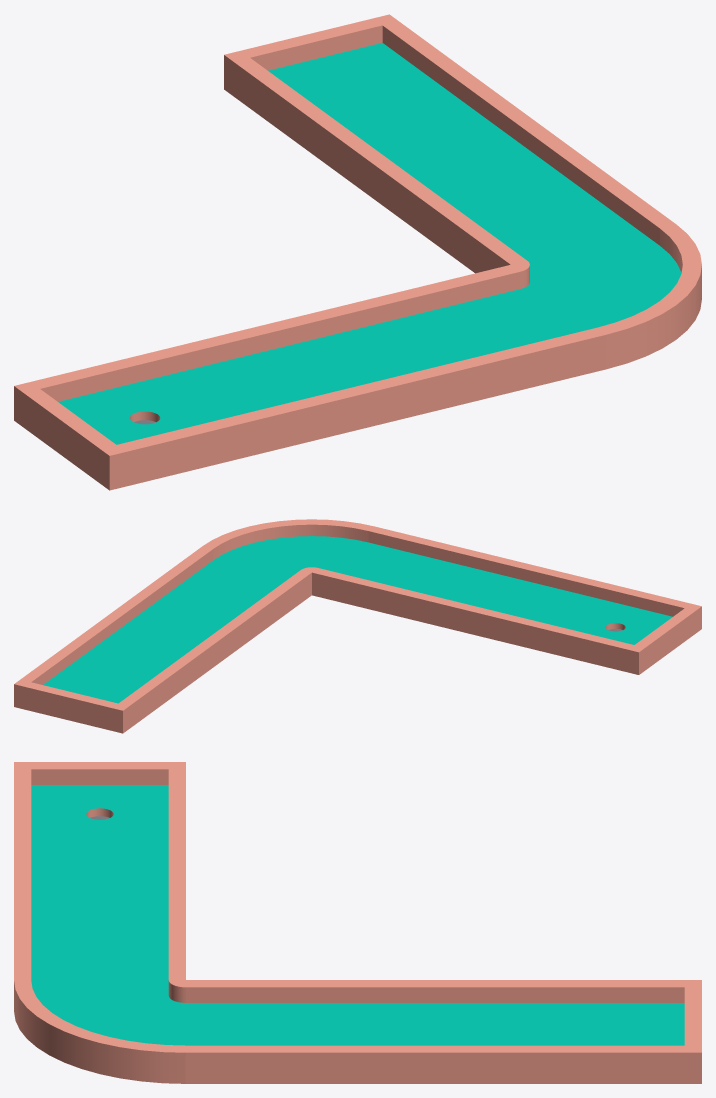
The model's file is Hole1.fbx.
3 views of the same model, one above another, from view 1: azimuth 30°, elevation 25°; view 2: azimuth 150°, elevation 25°; view 3: azimuth 270°, elevation 25° (orthographic). The views are drawn at different scales.
Parts seen in each view (by area): view 1: Hole1Unmerged.001, Hole1Unmerged.002; view 2: Hole1Unmerged.001, Hole1Unmerged.002; view 3: Hole1Unmerged.002, Hole1Unmerged.001.
Boxes of the visible parts, x1,y1,x2,y2 form: Hole1Unmerged.001: (14,14,701,490); Hole1Unmerged.002: (58,43,681,444); Hole1Unmerged.001: (14,519,701,733); Hole1Unmerged.002: (43,536,672,703); Hole1Unmerged.002: (31,785,684,1045); Hole1Unmerged.001: (14,762,701,1083).
Bounding box in the file's own units: 400 × 20 × 400.
